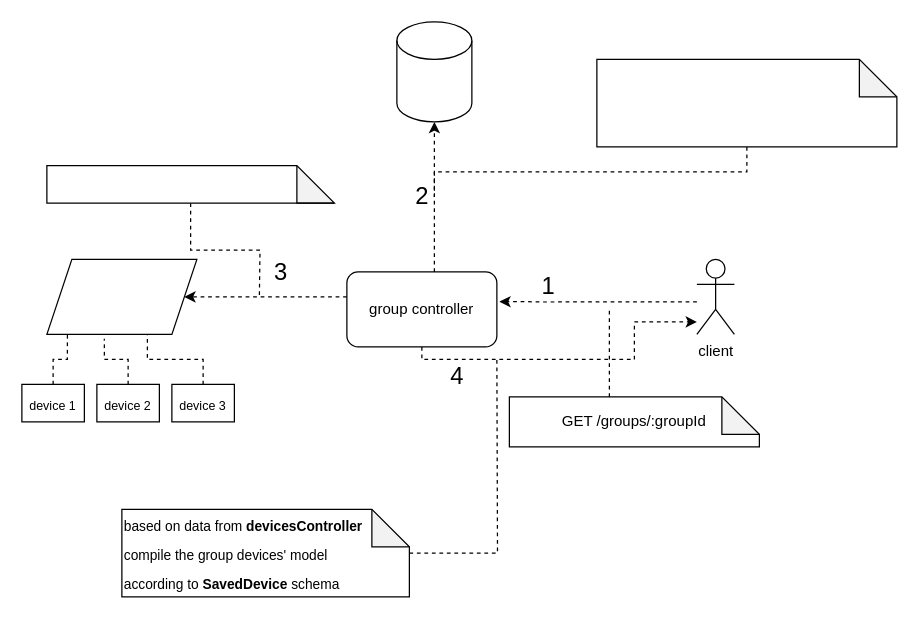
The diagram is 919 pixels wide and 619 high, and some of its shapes have lost their labels. Here are the shapes that lost their labels. From the top down, the centre of each, then its label:
At (x=434, y=71): "FUSEKI".
At (x=746, y=102): "SPARQL query to retrieve Group where devices have WoT specifications".
At (x=190, y=183): "devicesController.getDevice(...)".
At (x=121, y=296): "devices controller".
